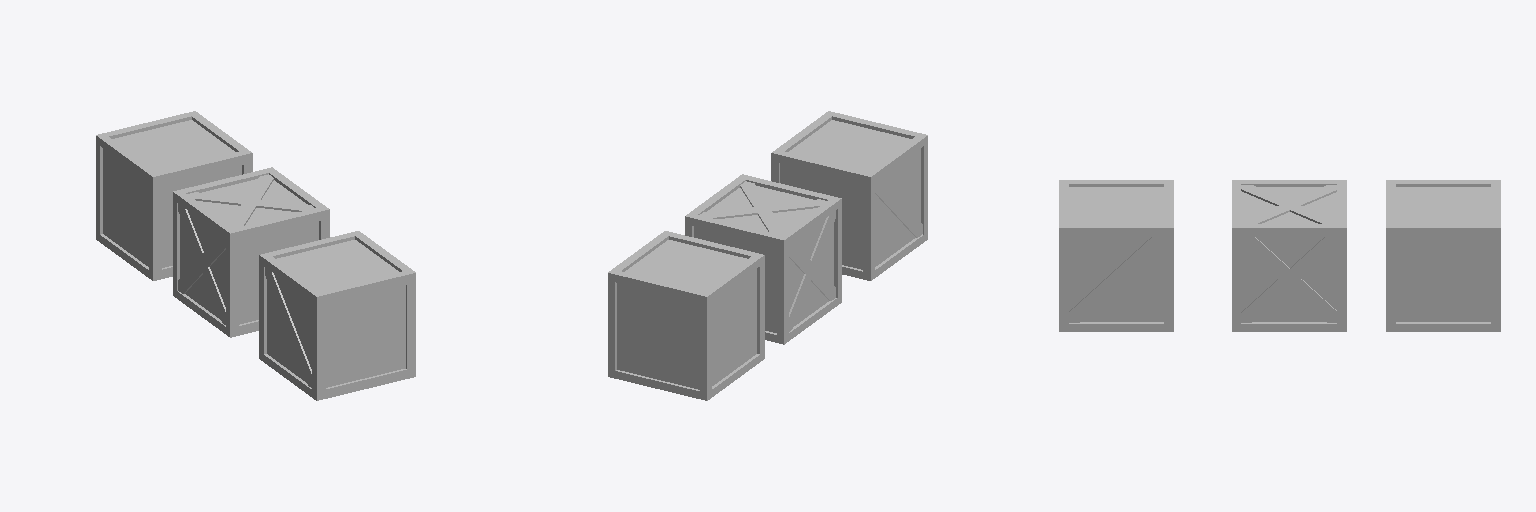
File: caja_LoD_1.obj
3 renders of one model, left to right at view 1: azimuth 30°, elevation 25°; view 2: azimuth 150°, elevation 25°; view 3: azimuth 270°, elevation 25°, orthographic.
Parts seen in each view (by area): view 1: Boxes; view 2: Boxes; view 3: Boxes.
Part boxes in pixels (bbox=[...]): Boxes: bbox=[96, 111, 415, 400]; Boxes: bbox=[608, 111, 927, 400]; Boxes: bbox=[1059, 180, 1500, 331].
Bounding box in the file's own units: 5.85 × 5.85 × 22.5.